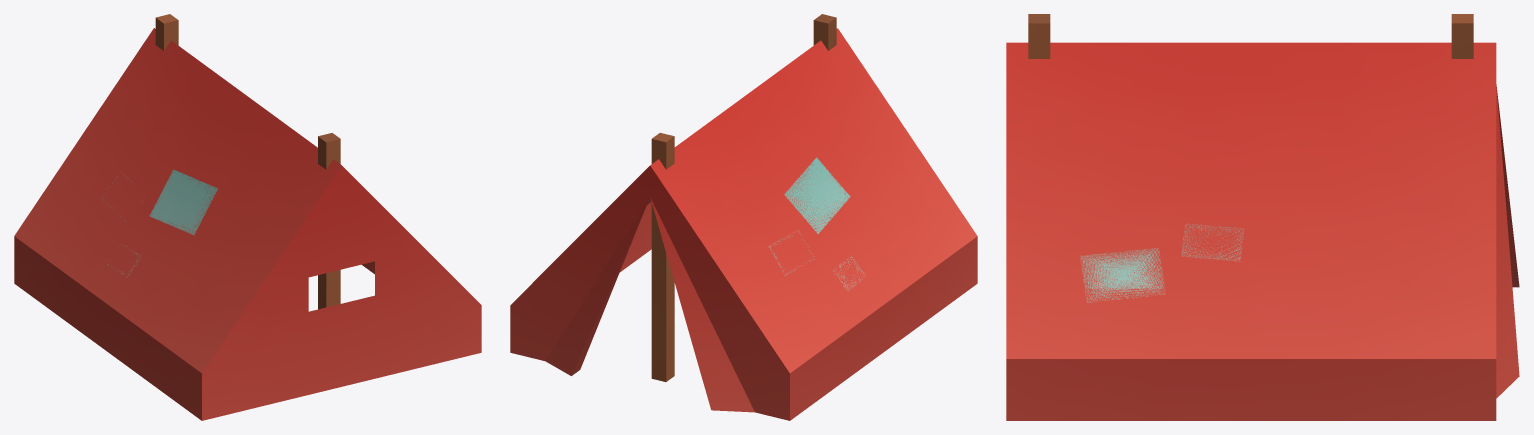
Rendered from tentSmall.glb.
3 renders of one model, left to right at view 1: azimuth 30°, elevation 25°; view 2: azimuth 150°, elevation 25°; view 3: azimuth 270°, elevation 25°, orthographic. The views are drawn at different scales.
Visible parts, largest first — view 1: tentSmall; view 2: tentSmall; view 3: tentSmall.
Part boxes in pixels (x1,y1,x2,y2): tentSmall: (14, 14, 481, 420); tentSmall: (510, 14, 977, 420); tentSmall: (1006, 14, 1519, 420).
Bounding box in the file's own units: 1.1 × 0.8978 × 1.33.
1 material, 1 textured.
